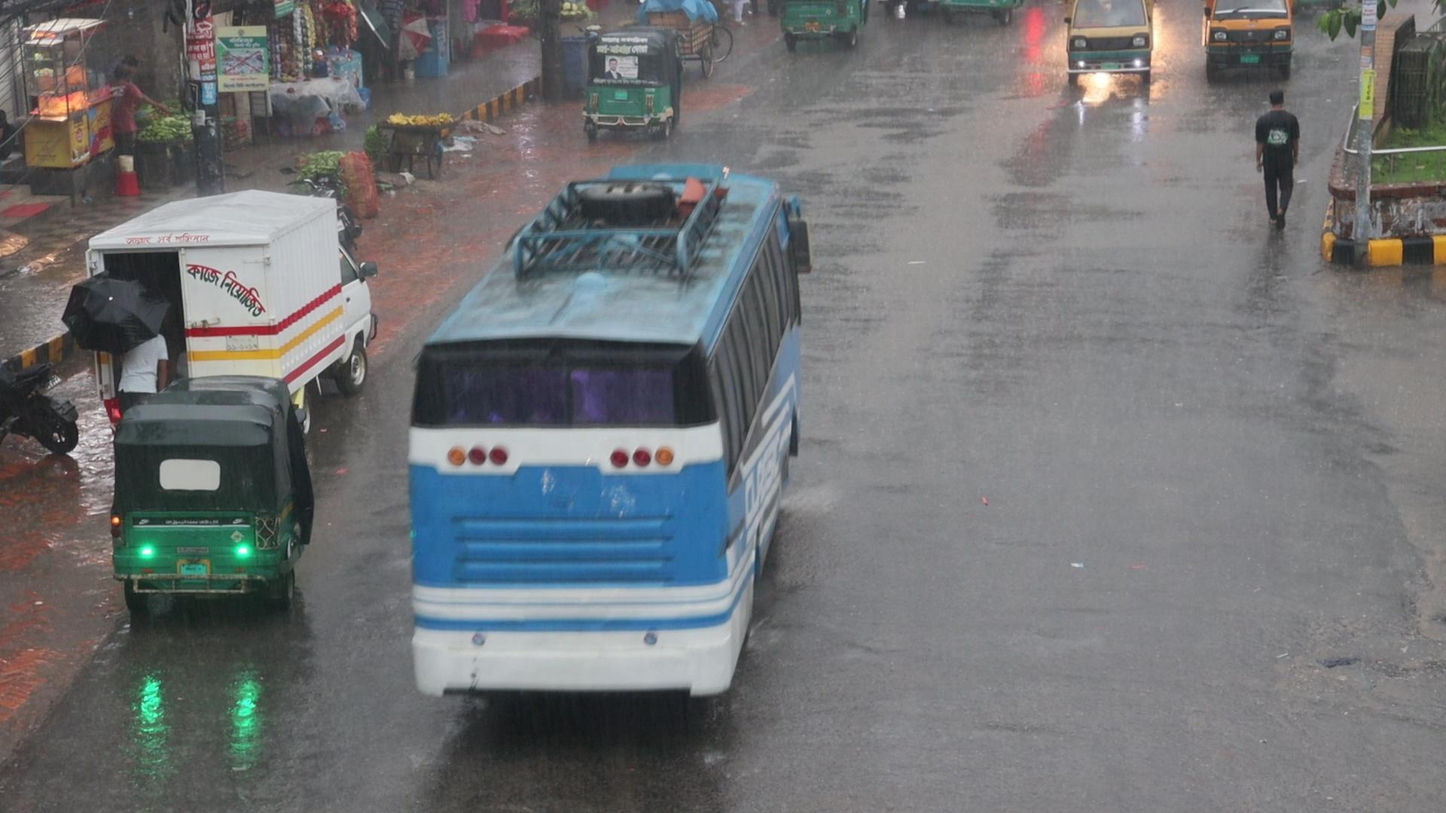Bus: (398, 157, 815, 716)
Truck: (1062, 0, 1159, 84), (1204, 2, 1296, 80)
